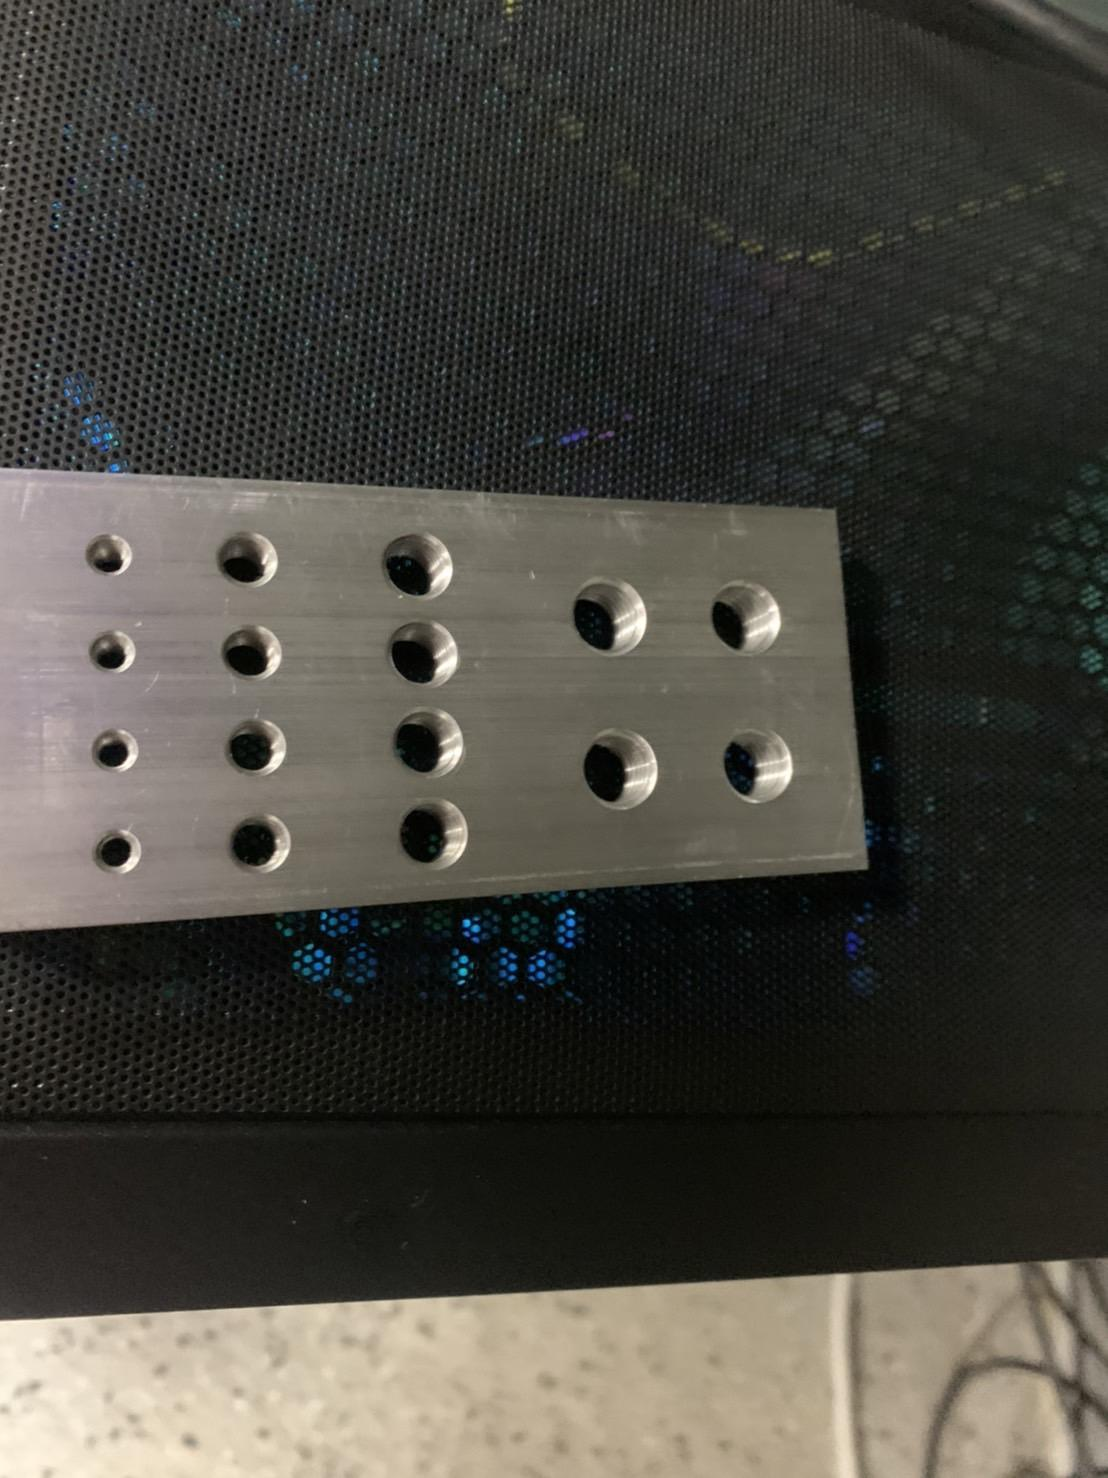hole: (566, 566, 659, 666), (575, 722, 663, 817), (706, 575, 788, 668), (713, 724, 801, 810), (377, 525, 461, 609), (386, 703, 468, 784), (383, 617, 464, 696), (396, 795, 473, 875), (223, 810, 296, 881), (222, 711, 296, 781), (213, 526, 284, 592), (216, 623, 292, 677), (85, 627, 142, 677), (88, 827, 144, 874), (91, 726, 143, 775), (85, 530, 135, 578)
